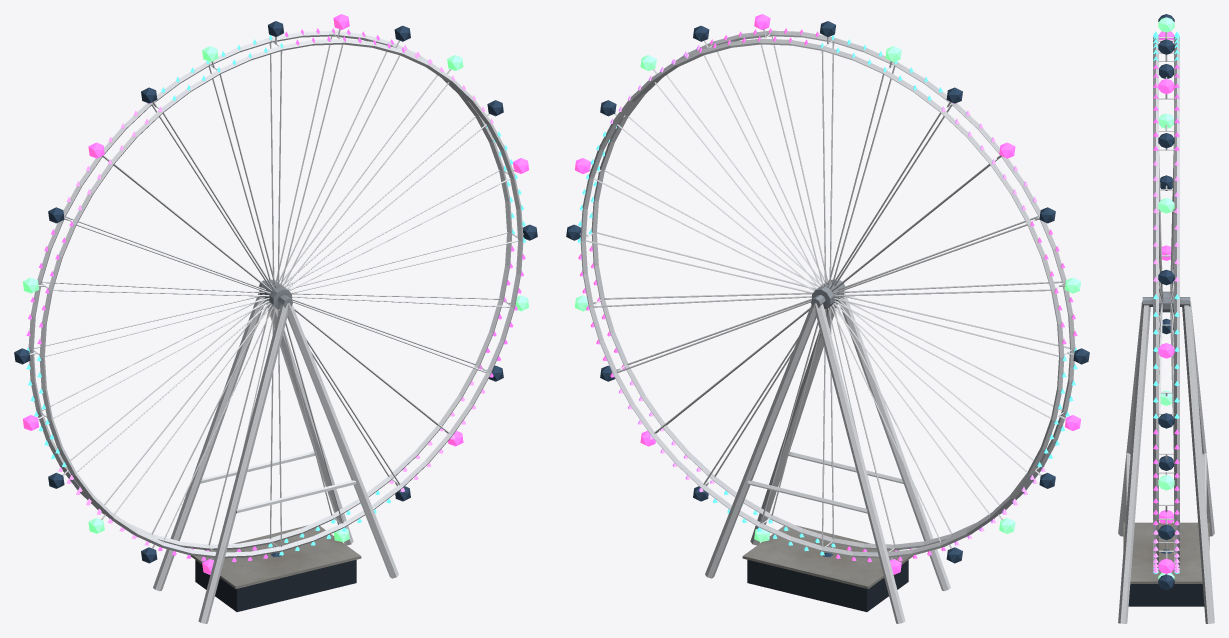
File: pariserhjul_tex.glb
The picture shows the model from 3 angles, left to right: view 1: azimuth 30°, elevation 25°; view 2: azimuth 150°, elevation 25°; view 3: azimuth 270°, elevation 25°; orthographic projection. The views are drawn at different scales.
Parts seen in each view (by area): view 1: Hjul, Stativ; view 2: Hjul, Stativ; view 3: Stativ, Hjul.
Boxes of the visible parts, x1,y1,x2,y2 form: Hjul: [14, 14, 537, 574]; Stativ: [153, 280, 398, 623]; Hjul: [566, 14, 1089, 574]; Stativ: [705, 280, 950, 623]; Stativ: [1118, 297, 1214, 623]; Hjul: [1153, 14, 1179, 589].
Size of the model in its own units: 87.13 by 89.92 by 14.6.
Materials: 9 (3 with a texture image).
